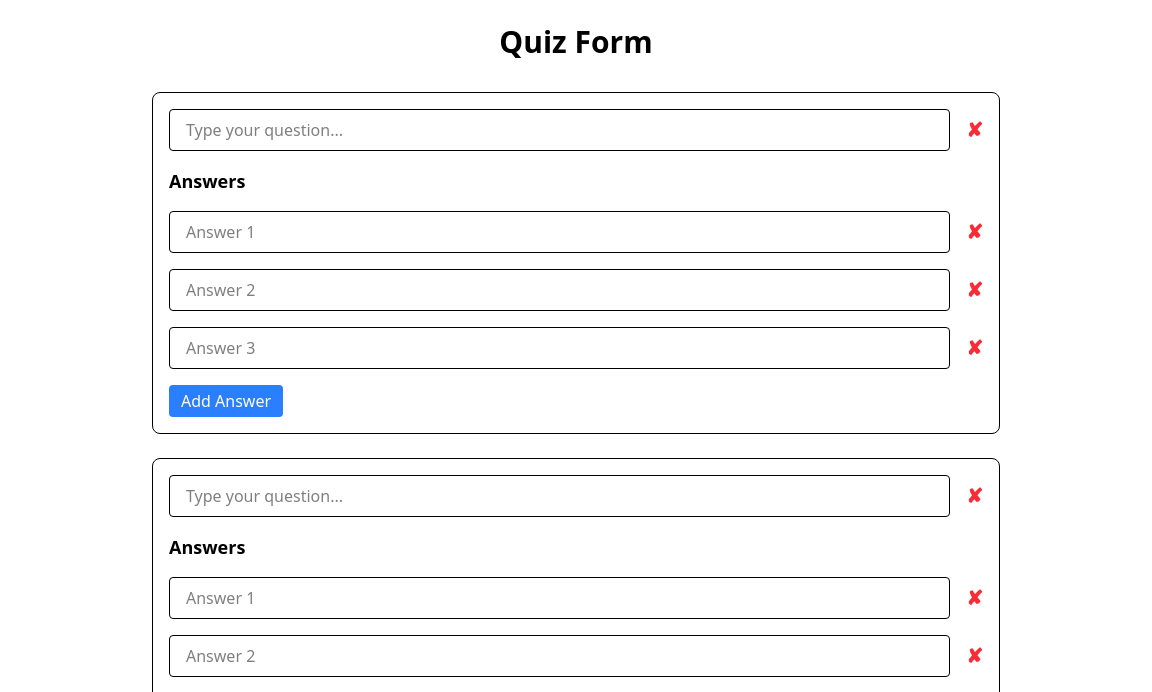
Scenario: Quiz Form E2E › Error Messages › Answer Count Error Messages › should show maximum answers error if answer count is exceeded
Expected: the element showing "✘ Answers ✘ ✘ ✘ Add Answer" is shown, x1=152 y1=92 x2=1000 y2=434
What coordinates should you click on to do the following:
click the button with aria-label "Add answer"
I would click on:
 (226, 401)
Its box is x1=169 y1=385 x2=283 y2=417.
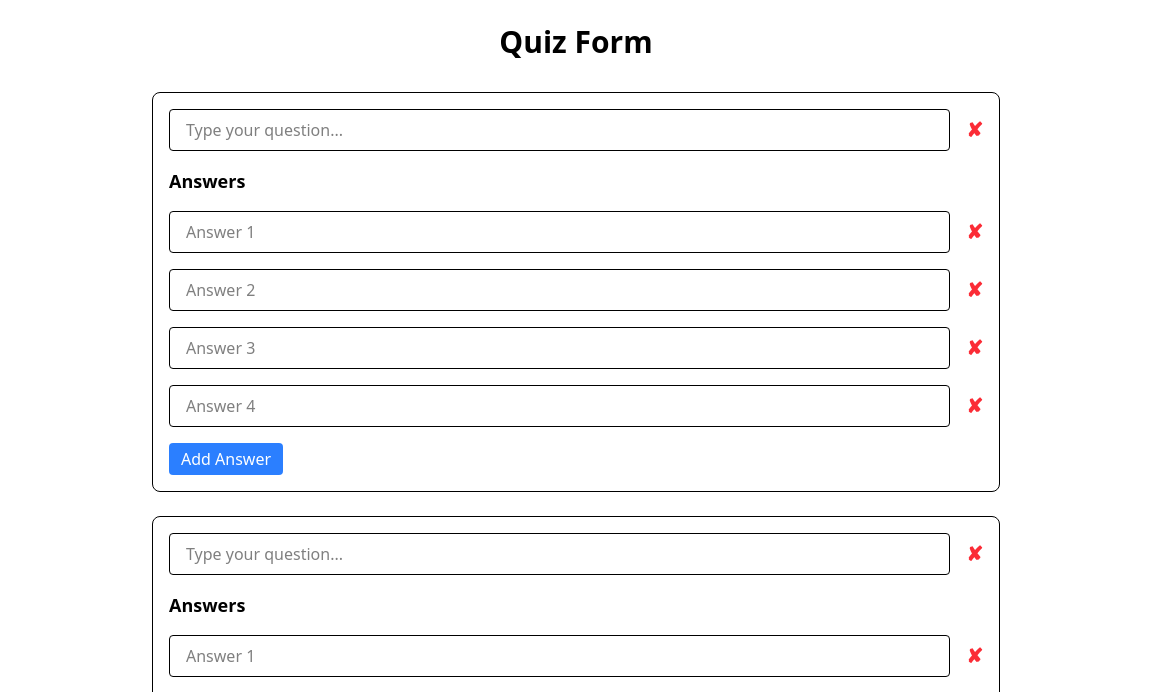
What coordinates should you click on to do the following:
click the button with aria-label "Add answer"
I would click on:
 (226, 459)
Its box is x1=169 y1=443 x2=283 y2=475.
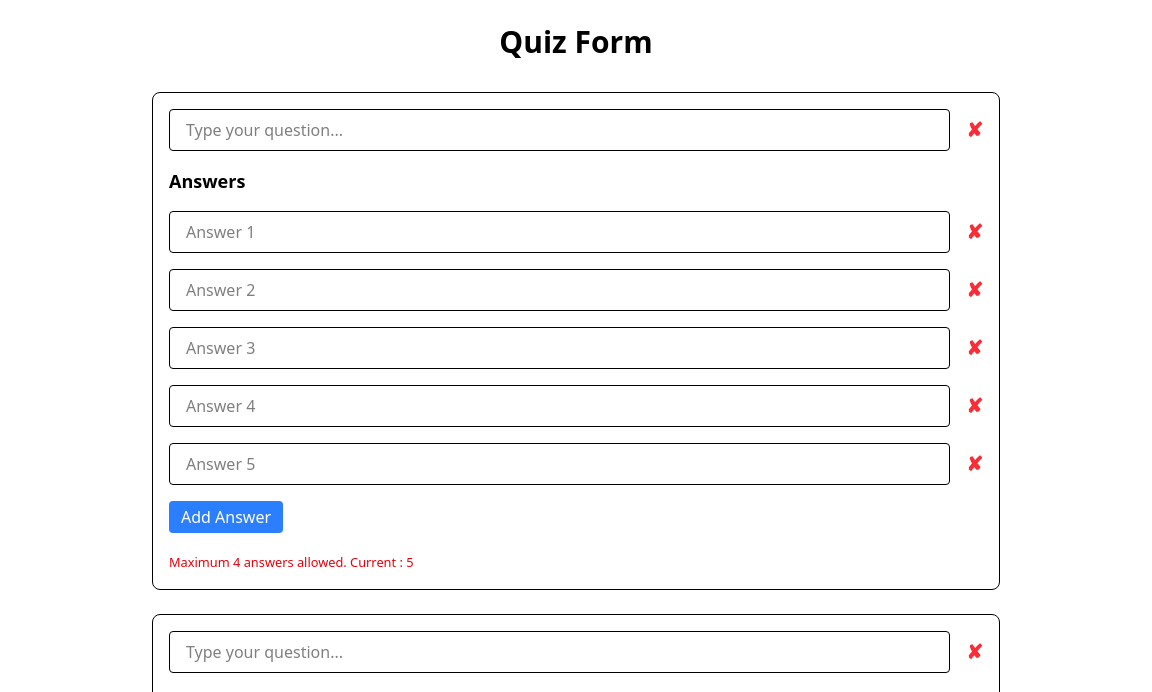
Expected: the text "Maximum 4 answers allowed. Current : 5" is shown, x1=169 y1=553 x2=414 y2=571
